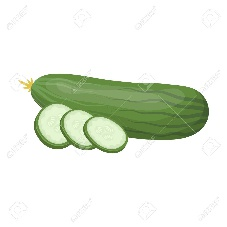cucumber: (31, 73, 209, 142)
